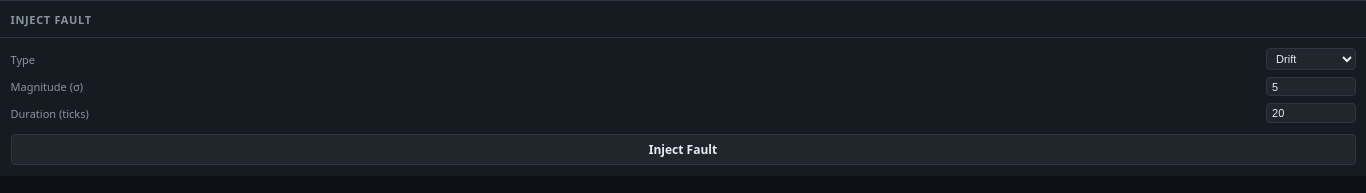
Test: InjectControl › shows done state after successful inject
Click the button. click: coordinates (683, 149)
box: [10,134,1356,165]
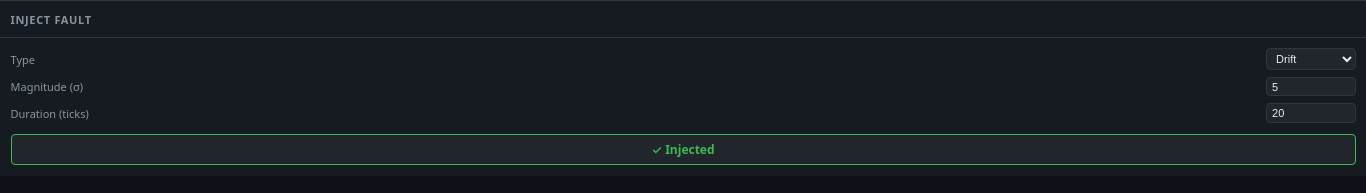
Check: the button reads "✓ Injected", box [10,134,1356,165]
